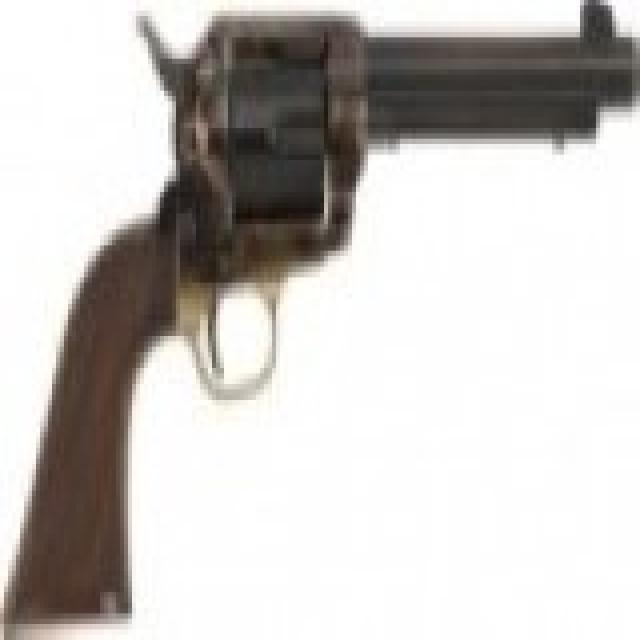Gun: (11, 4, 640, 625)
